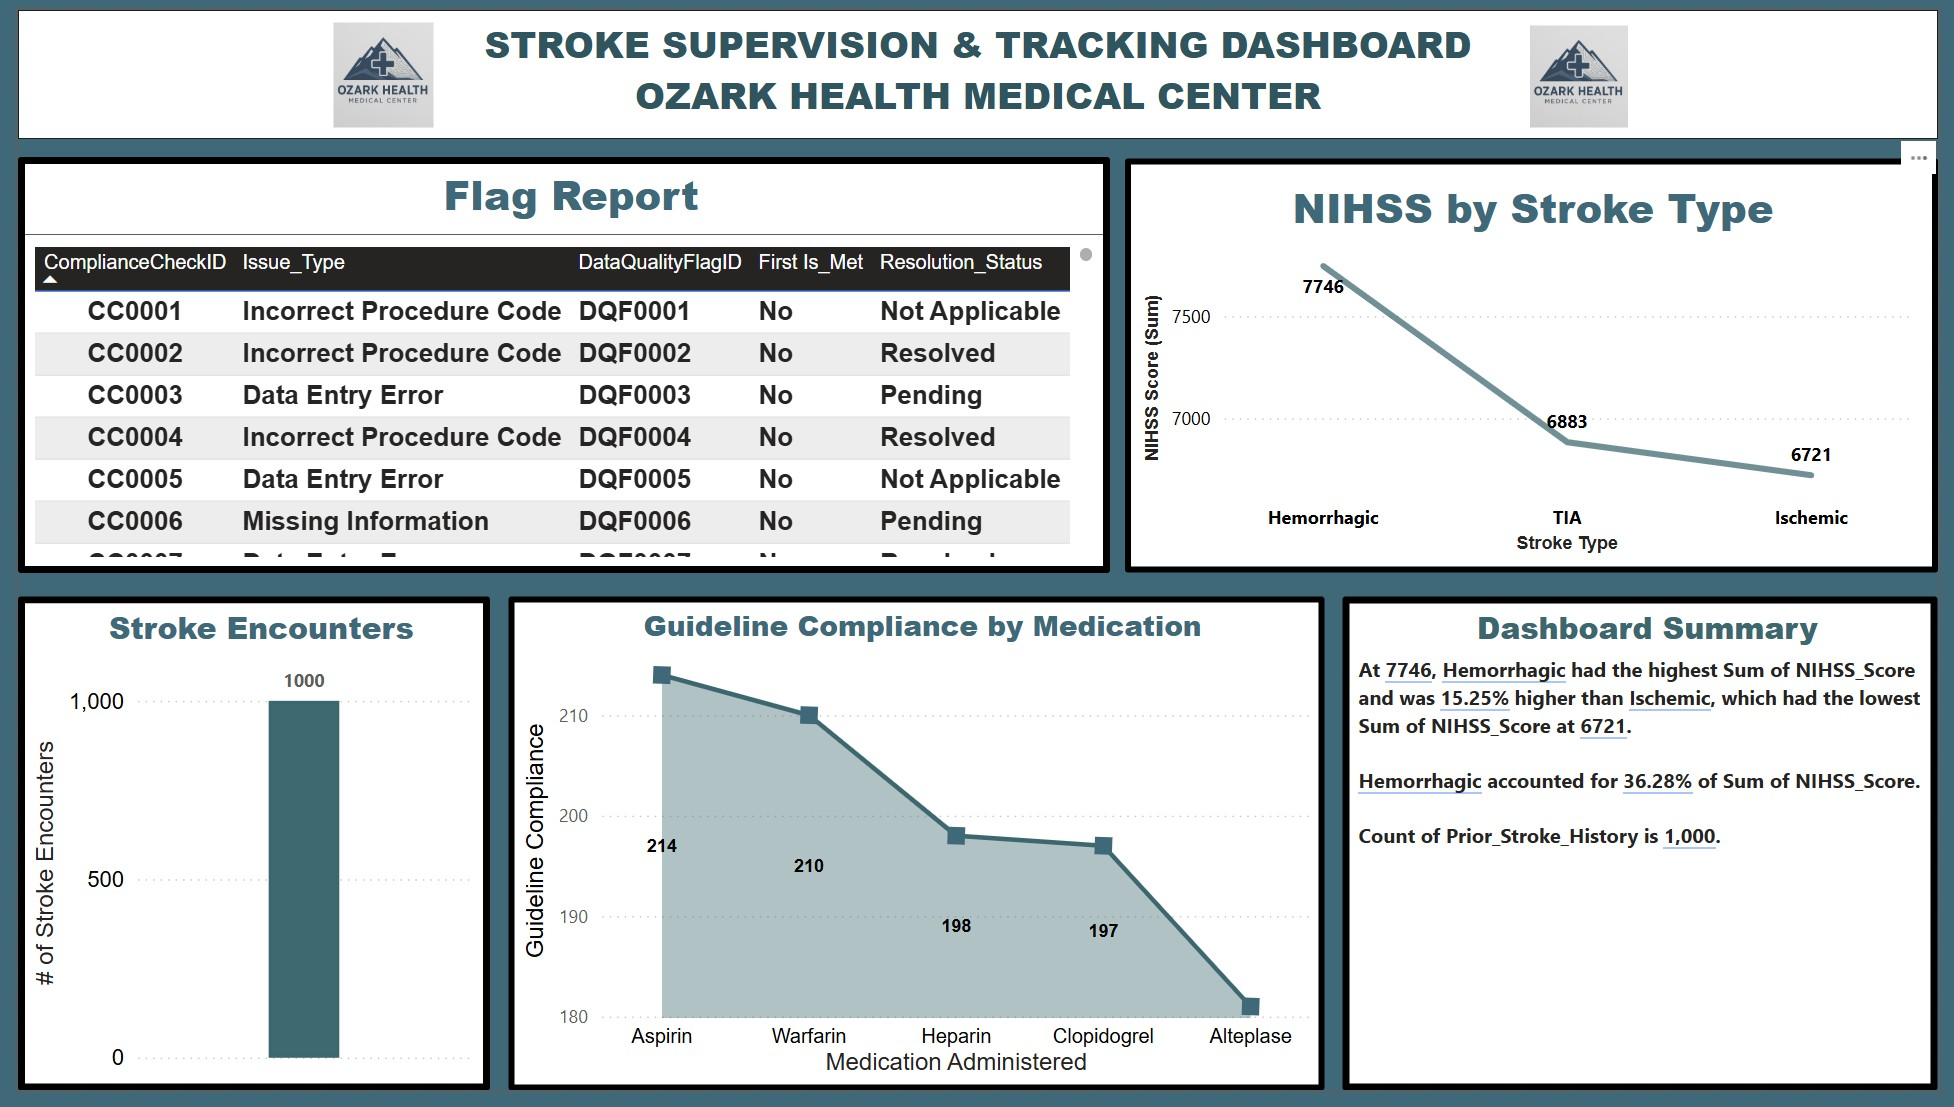

The page's visual inventory and layout, read from the dashboard file:
{"tool":"powerbi","page":{"name":"Page 1","canvas":[1280,720],"ordinal":0},"visuals":[{"type":"lineChart","title":"NIHSS by Stroke Type","fields":{"Category":["STROKE_ENCOUNTER (2).Stroke_Type"],"Y":["Sum(STROKE_ENCOUNTER (2).NIHSS_Score)"]},"box":[738.2,98.6,542.1,276.6],"z":0},{"type":"textbox","box":[0,0,1280,86.2],"z":1000},{"type":"tableEx","title":"Flag Report","fields":{"Values":["DATA_QUALITY_FLAG (2).ComplianceCheckID","DATA_QUALITY_FLAG (2).Issue_Type","DATA_QUALITY_FLAG (2).DataQualityFlagID","Min(COMPLIANCE_CHECK (2).Is_Met)","DATA_QUALITY_FLAG (2).Resolution_Status"]},"box":[0,98.5,727.7,276.9],"z":2000},{"type":"columnChart","title":"Stroke Encounters","fields":{"Y":["CountNonNull(PATIENT (2).Prior_Stroke_History)"]},"box":[0,390.8,315.4,329.2],"z":3000},{"type":"stackedAreaChart","title":"Guideline Compliance by Medication","fields":{"Category":["TREATMENT (2).Medication_Name"],"Y":["CountNonNull(TREATMENT (2).Guideline_Compliance)"]},"box":[327,391,544,329],"z":4000},{"type":"image","box":[204.6,3.1,78.5,80],"z":5000},{"type":"image","box":[998.5,4.6,84.6,78.5],"z":6000},{"type":"textbox","title":"Dashboard Summary","box":[882.7,390.9,397.3,329.1],"z":7000}]}

Visuals, with their boxes in screenshot pixels (x1, y1, x2, y2), scaled from the page's 1280x720 canvas onto the 1954x1107 screenshot:
"NIHSS by Stroke Type" lineChart: x1=1127 y1=152 x2=1953 y2=577
textbox: x1=0 y1=0 x2=1953 y2=133
"Flag Report" tableEx: x1=0 y1=151 x2=1111 y2=577
"Stroke Encounters" columnChart: x1=0 y1=601 x2=481 y2=1106
"Guideline Compliance by Medication" stackedAreaChart: x1=499 y1=601 x2=1330 y2=1106
image: x1=312 y1=5 x2=432 y2=128
image: x1=1524 y1=7 x2=1653 y2=128
"Dashboard Summary" textbox: x1=1347 y1=601 x2=1953 y2=1106
